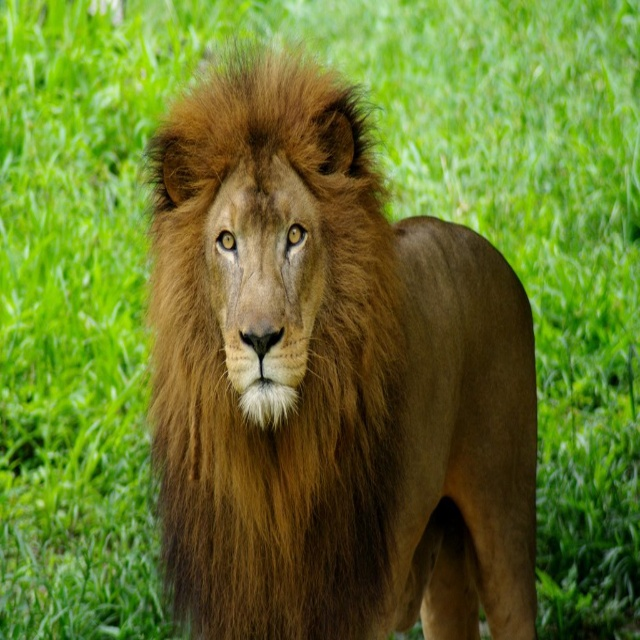Lion: (136, 26, 537, 640)
